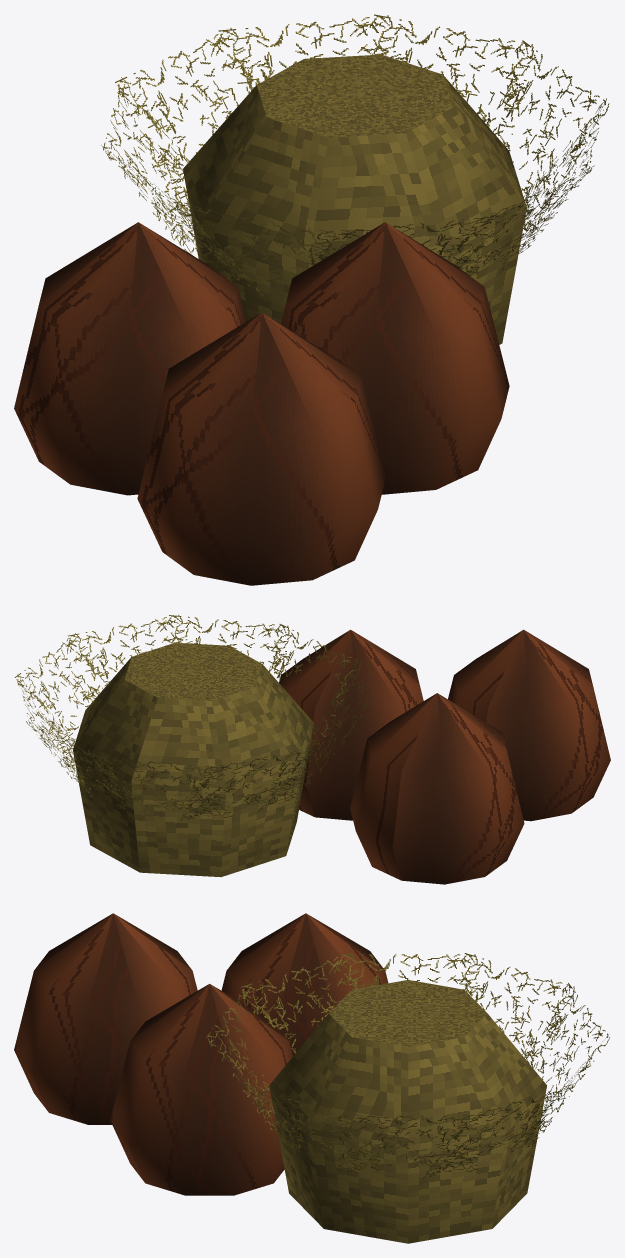
The model's file is item_chestnut.glb.
3 views of the same model, one above another, from view 1: azimuth 30°, elevation 25°; view 2: azimuth 150°, elevation 25°; view 3: azimuth 270°, elevation 25° (orthographic). The views are drawn at different scales.
Parts seen in each view (by area): view 1: item_chestnut; view 2: item_chestnut; view 3: item_chestnut.
Boxes of the visible parts, left/top/right/bottom form: item_chestnut: left=14, top=14, right=609, bottom=585; item_chestnut: left=14, top=615, right=610, bottom=884; item_chestnut: left=14, top=913, right=609, bottom=1243.
Size of the model in its own units: 0.1369 by 0.052 by 0.1503.
Materials: 3 (3 with a texture image).
